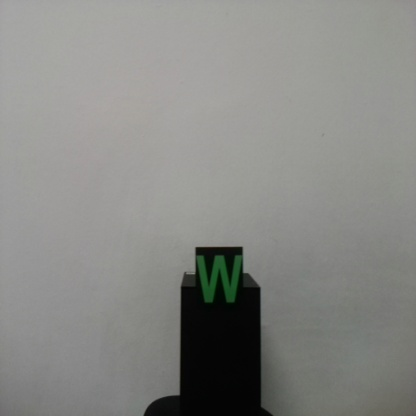id_12: (196, 247, 244, 316)
